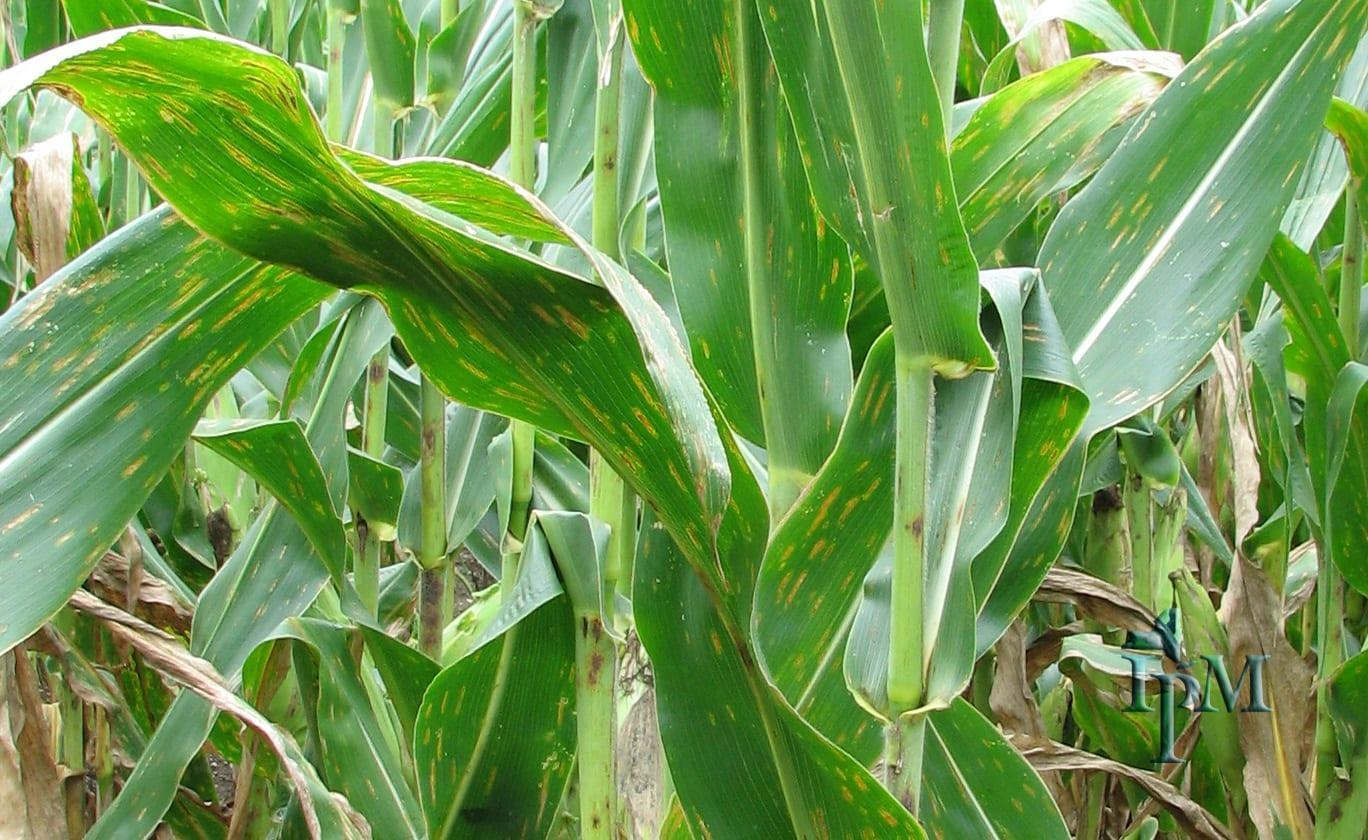Gray_Leaf_Spot: (1134, 319, 1322, 840), (0, 658, 371, 840), (0, 204, 311, 410), (4, 17, 309, 203), (309, 134, 511, 340), (1001, 360, 1132, 614), (985, 620, 1134, 840), (771, 702, 977, 840), (585, 230, 678, 523), (678, 410, 775, 648), (955, 0, 1050, 240), (777, 458, 882, 648), (1194, 0, 1368, 107), (75, 525, 208, 658), (511, 174, 580, 424), (1052, 15, 1193, 128), (400, 648, 477, 840), (755, 190, 858, 311), (1092, 146, 1165, 275), (523, 668, 577, 840), (394, 335, 513, 412), (576, 600, 632, 713), (701, 13, 751, 138), (408, 553, 471, 644), (389, 408, 460, 477), (850, 362, 900, 445), (611, 0, 670, 61), (111, 441, 157, 489), (0, 483, 44, 533), (596, 111, 624, 178), (1189, 188, 1227, 230), (707, 339, 725, 410), (1284, 156, 1308, 204)
